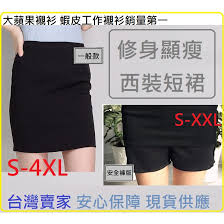F_tailored skirt: (7, 36, 98, 158)
